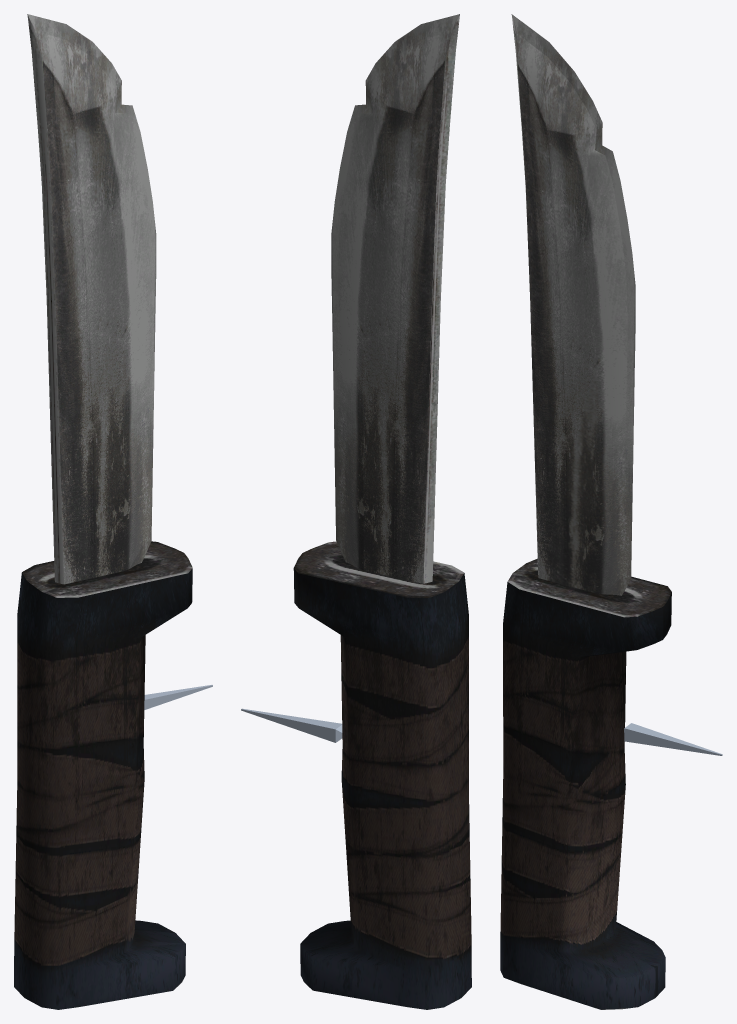
File: knife.obj
3 renders of one model, left to right at view 1: azimuth 30°, elevation 25°; view 2: azimuth 150°, elevation 25°; view 3: azimuth 330°, elevation 25°, orthographic. The views are drawn at different scales.
Visible parts, largest first — view 1: Knife, Knife_Mesh; view 2: Knife, Knife_Mesh; view 3: Knife, Knife_Mesh.
Boxes of the visible parts, left/top/right/bottom form: Knife: left=14, top=14, right=192, bottom=1009; Knife_Mesh: left=144, top=685, right=212, bottom=709; Knife: left=293, top=14, right=471, bottom=1009; Knife_Mesh: left=241, top=708, right=342, bottom=742; Knife: left=500, top=14, right=671, bottom=1009; Knife_Mesh: left=624, top=723, right=722, bottom=755.
Bounding box in the file's own units: 7.81 × 36.08 × 3.6.
